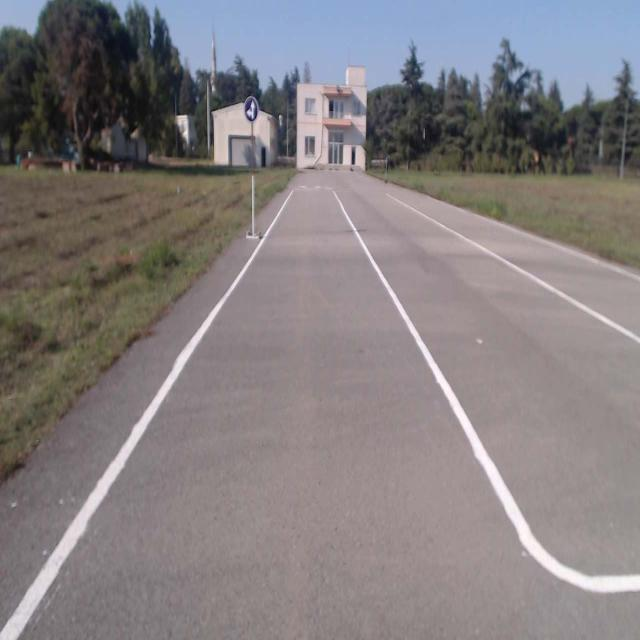ilerisol: (245, 96, 258, 122)
